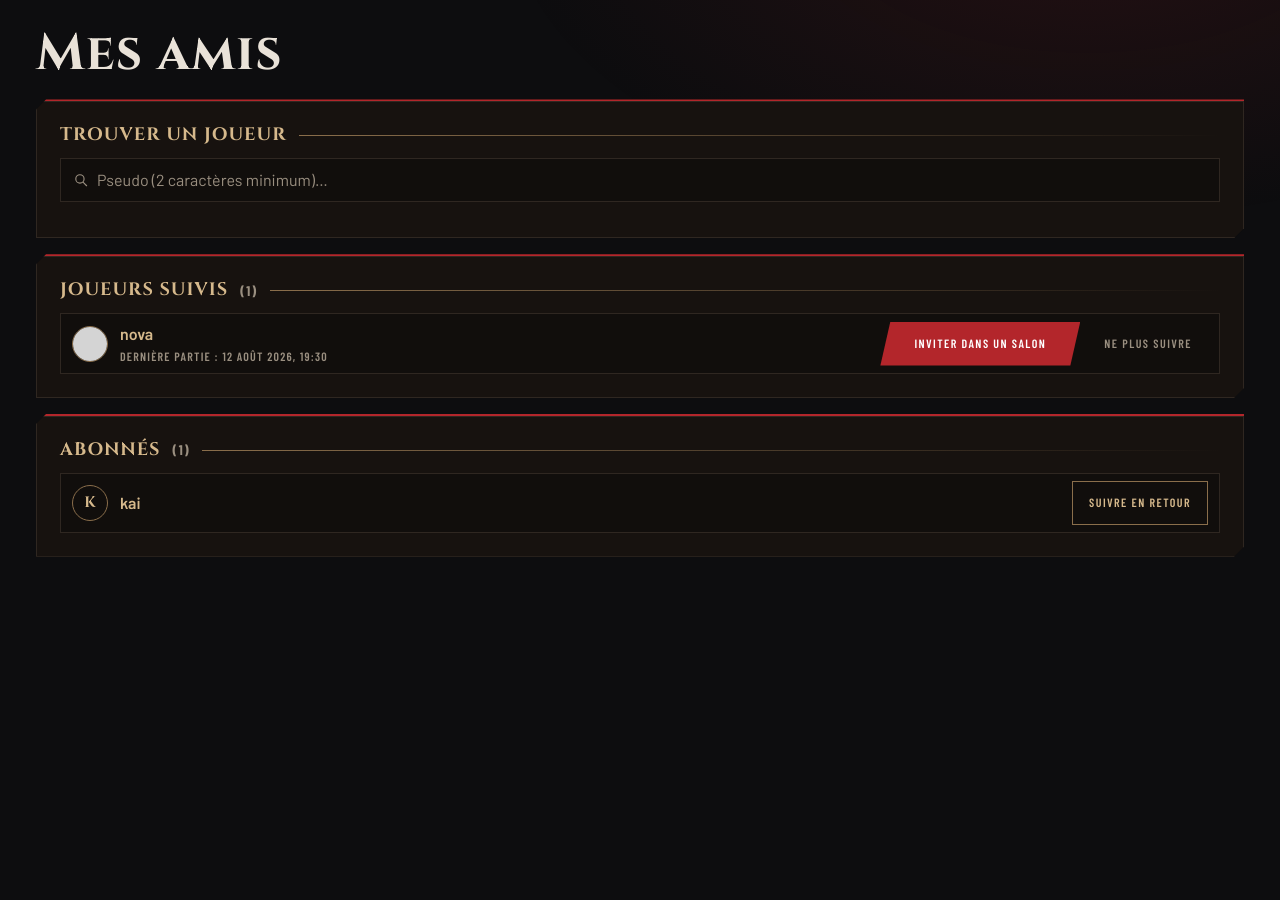
it: FriendsView › cesse de suivre un joueur et le retire de la liste
This screenshot has width=1280, height=900.
Click the button "Ne plus suivre": x=1148, y=344 [1088,322,1208,366]
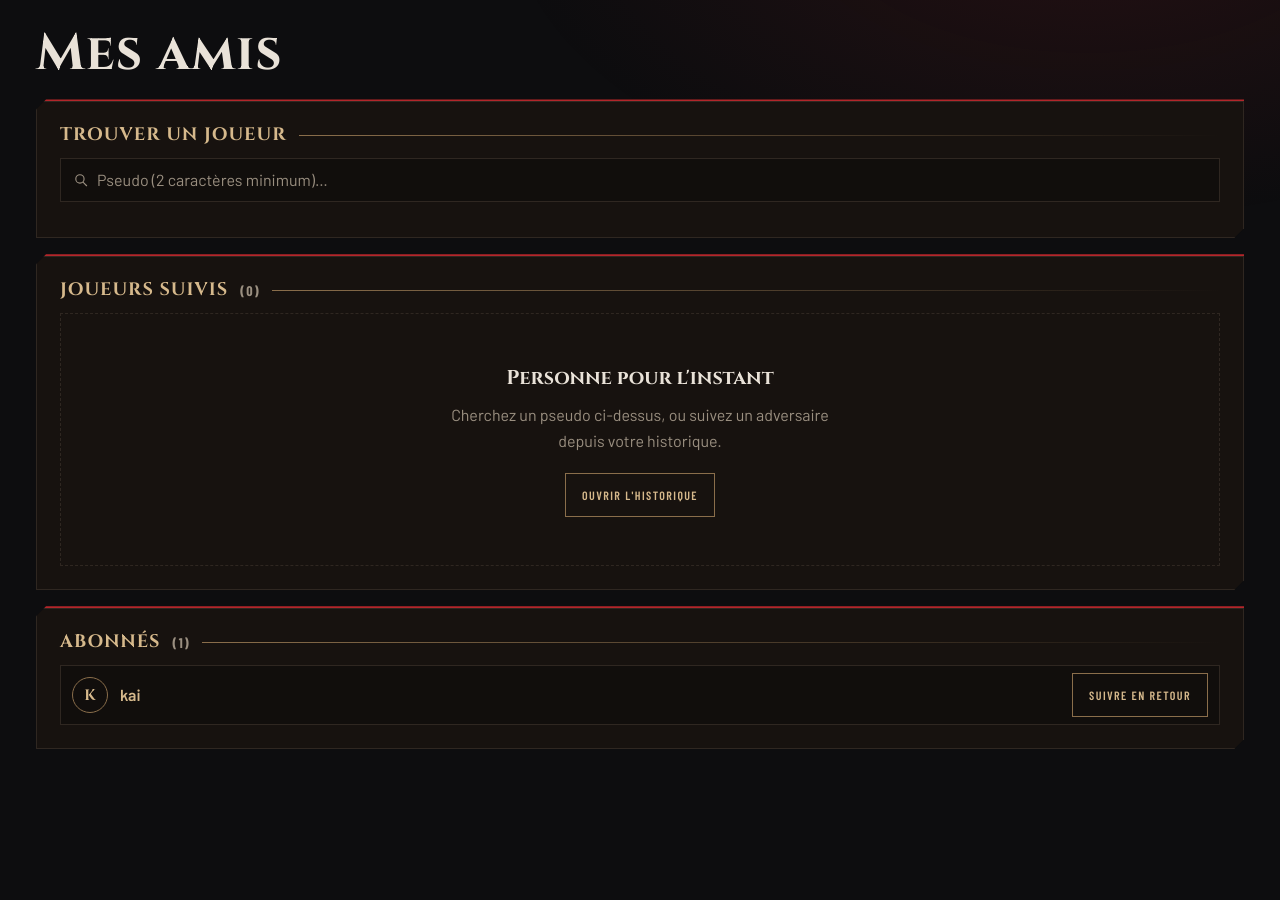
Result: the message with class "rift-empty" shows "Personne pour l'instant" at [506,364,774,391]
